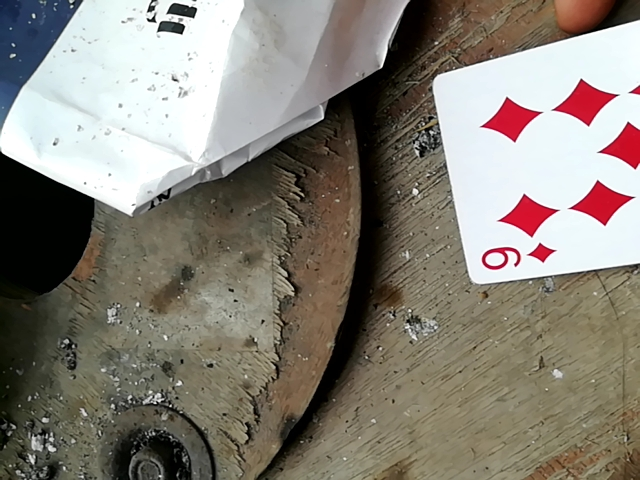fk 9: (435, 0, 640, 286)
